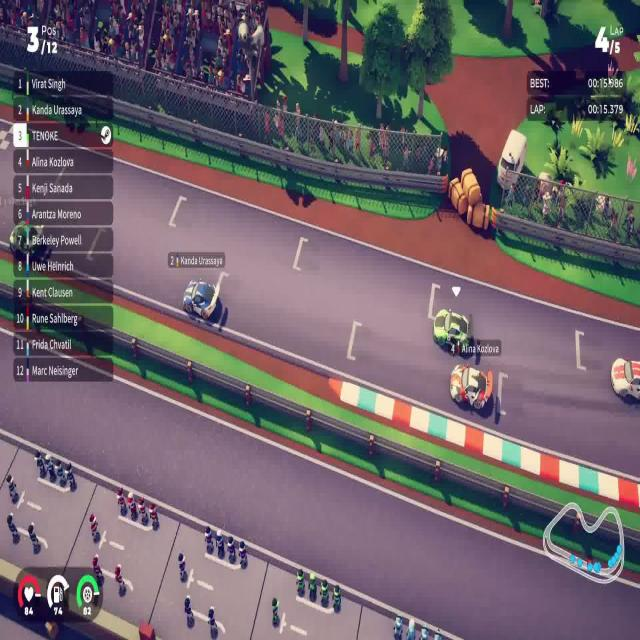car: (182, 270, 228, 321), (449, 363, 493, 411), (432, 307, 474, 355)
